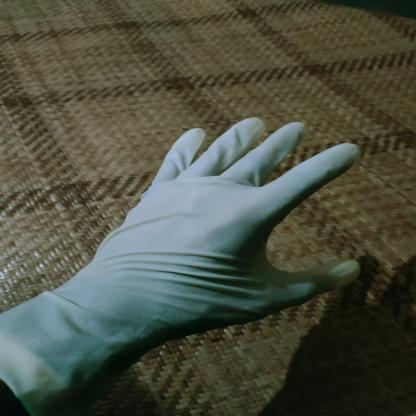gloved_hand: (2, 114, 365, 415)
